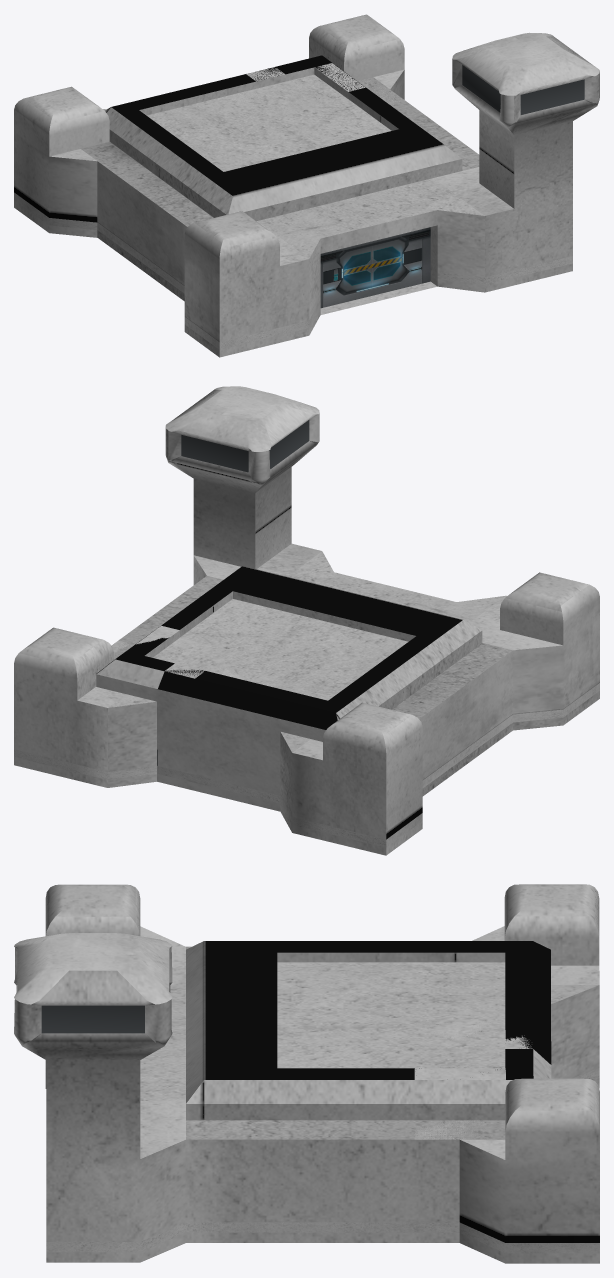
File: bunker.fbx
3 views of the same model, one above another, from view 1: azimuth 30°, elevation 25°; view 2: azimuth 150°, elevation 25°; view 3: azimuth 270°, elevation 25° (orthographic). The views are drawn at different scales.
Parts seen in each view (by area): view 1: pCube1; view 2: pCube1; view 3: pCube1.
Boxes of the visible parts, bbox=[...] form: pCube1: bbox=[14, 14, 599, 357]; pCube1: bbox=[14, 386, 599, 855]; pCube1: bbox=[14, 884, 599, 1263].
Size of the model in its own units: 25.57 by 14.09 by 25.68.
Materials: 2 (1 with a texture image).
